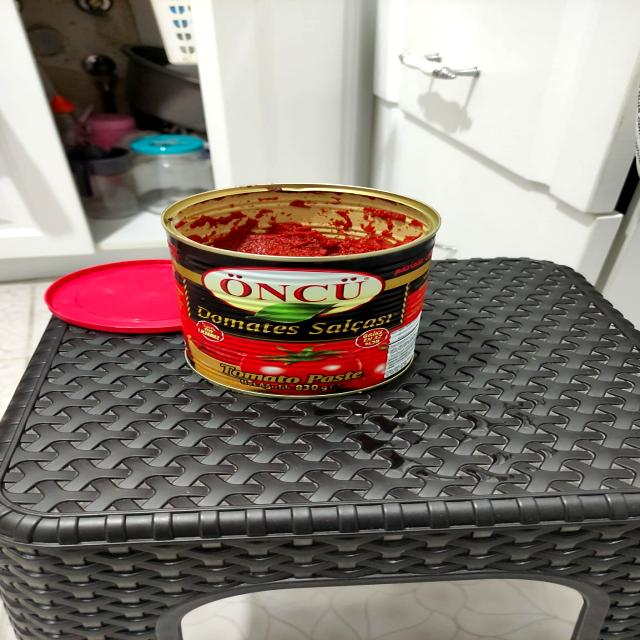tomato paste: (159, 169, 468, 400)
